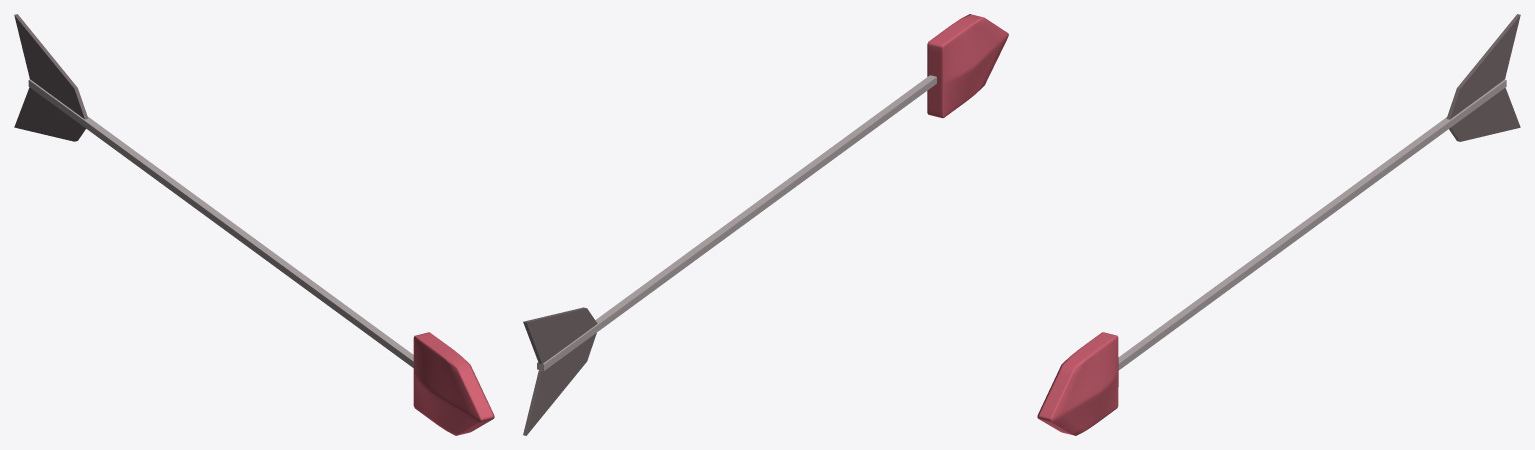
The model's file is arrow fbx.fbx.
3 views of the same model, side by side, from view 1: azimuth 30°, elevation 25°; view 2: azimuth 150°, elevation 25°; view 3: azimuth 330°, elevation 25° (orthographic).
Parts seen in each view (by area): view 1: pCube10, pCube11, pCube12, pCube19; view 2: pCube10, pCube11, pCube12, pCube19; view 3: pCube10, pCube11, pCube12, pCube19.
Part boxes in pixels (<box>): pCube10: <box>413,332,494,435</box>; pCube11: <box>28,79,413,367</box>; pCube12: <box>14,14,88,119</box>; pCube19: <box>14,87,85,141</box>; pCube10: <box>927,14,1008,118</box>; pCube11: <box>537,75,936,370</box>; pCube12: <box>523,307,597,363</box>; pCube19: <box>523,333,596,435</box>; pCube10: <box>1037,332,1118,435</box>; pCube11: <box>1118,79,1506,370</box>; pCube12: <box>1446,14,1520,119</box>; pCube19: <box>1449,87,1520,141</box>.
Size of the model in its own units: 0.4208 by 1.55 by 11.77.
1 material, 1 textured.
